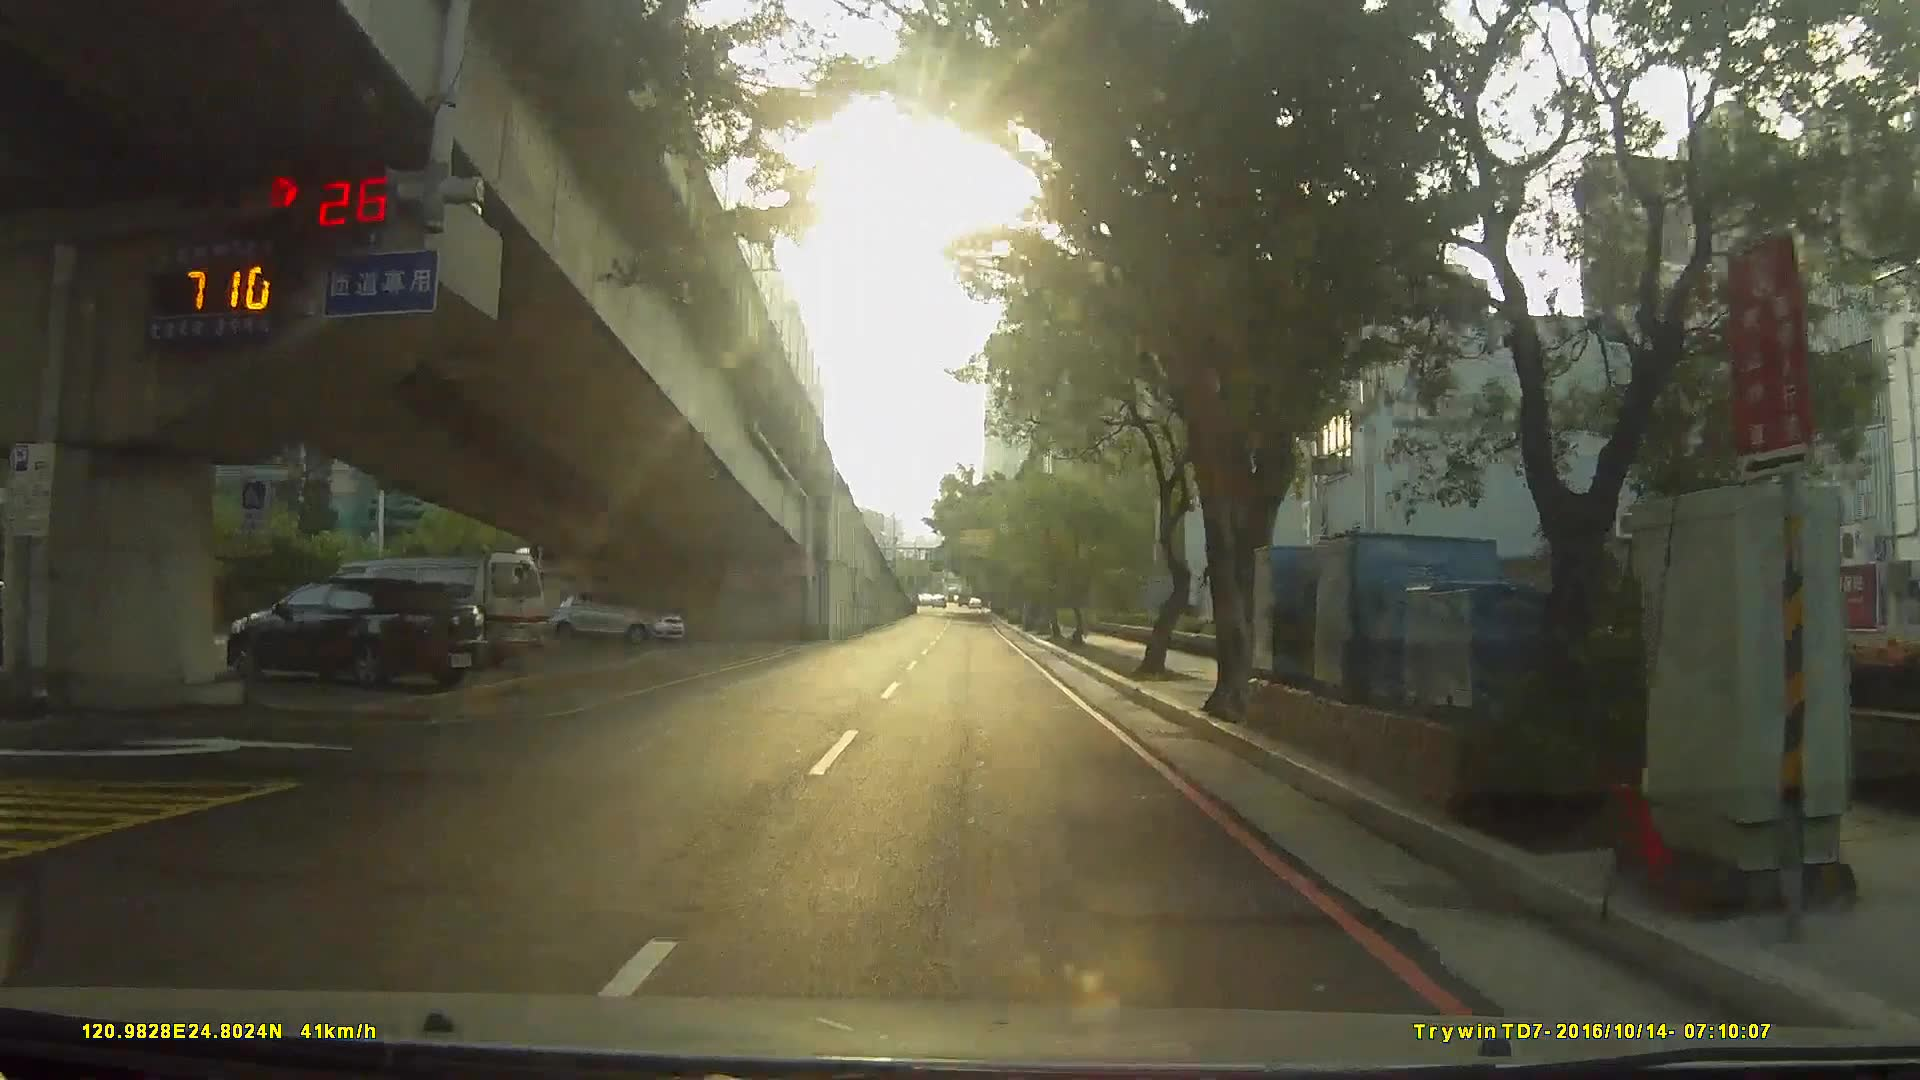vehicle: (214, 574, 502, 696), (297, 551, 553, 684), (549, 588, 684, 649)
